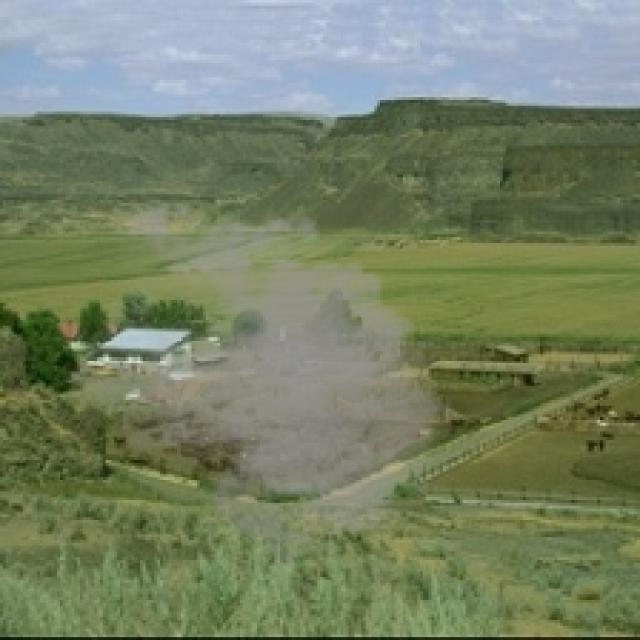smoke: (57, 192, 469, 572)
